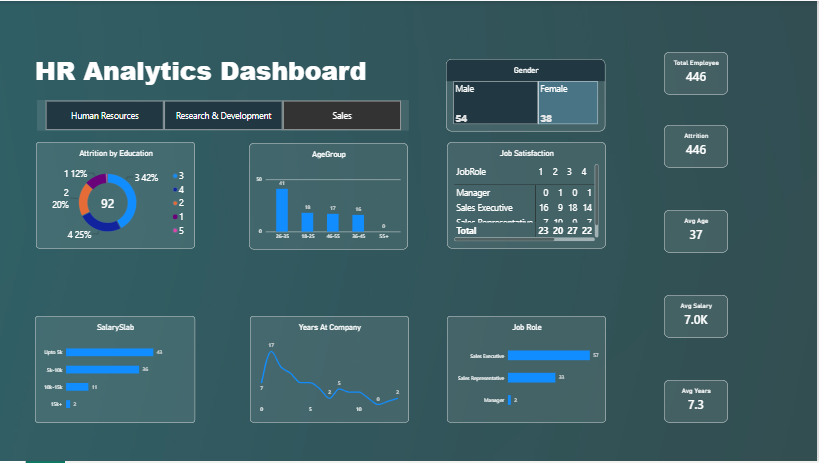

This screenshot's page, from the dashboard's own definition file:
{"tool":"powerbi","page":{"name":"Page 1","canvas":[1920,1080],"ordinal":0},"visuals":[{"type":"card","title":"Total Employee","fields":{"Values":["HR_Analytics.Total Employee"]},"box":[1560,120,150,100],"z":0},{"type":"card","title":"Attrition","fields":{"Values":["CountNonNull(HR_Analytics.AttritionCount)"]},"box":[1560,290,150,100],"z":1000},{"type":"card","title":"Avg Age","fields":{"Values":["Avg(HR_Analytics.Age)"]},"box":[1560,490,150,100],"z":2000},{"type":"card","title":"Avg Salary","fields":{"Values":["Avg(HR_Analytics.MonthlyIncome)"]},"box":[1560,690,150,100],"z":3000},{"type":"card","title":"Avg Years","fields":{"Values":["Avg(HR_Analytics.YearsAtCompany)"]},"box":[1560,890,150,100],"z":4000},{"type":"donutChart","title":"Attrition by Education","fields":{"Category":["HR_Analytics.Education"],"Y":["Sum(HR_Analytics.AttritionCount)"]},"box":[84,332,373.3,250],"z":5000},{"type":"columnChart","title":"AgeGroup","fields":{"Category":["HR_Analytics.AgeGroup"],"Y":["Sum(HR_Analytics.AttritionCount)"]},"box":[585.2,332.8,373,250],"z":6000},{"type":"pivotTable","title":"Job Satisfaction ","fields":{"Columns":["HR_Analytics.JobSatisfaction"],"Rows":["HR_Analytics.JobRole"],"Values":["Sum(HR_Analytics.AttritionCount)"]},"box":[1050,332,373,250],"z":7000},{"type":"barChart","title":"SalarySlab","fields":{"Category":["HR_Analytics.SalarySlab"],"Y":["Sum(HR_Analytics.AttritionCount)"]},"box":[82.2,739.6,375.7,251.2],"z":8000},{"type":"barChart","title":"Job Role","fields":{"Category":["HR_Analytics.JobRole"],"Y":["Sum(HR_Analytics.AttritionCount)"]},"box":[1050,740,373.3,250],"z":9000},{"type":"lineChart","title":"Years At Company","fields":{"Category":["HR_Analytics.YearsAtCompany"],"Y":["Sum(HR_Analytics.AttritionCount)"]},"box":[586,740,373.3,250],"z":10000},{"type":"treemap","title":"Gender","fields":{"Group":["HR_Analytics.Gender"],"Values":["Sum(HR_Analytics.AttritionCount)"]},"box":[1047.5,135,374,170],"z":11000},{"type":"textbox","box":[83.3,120,803.3,86.7],"z":13000},{"type":"slicer","fields":{"Values":["HR_Analytics.Department"]},"box":[86.7,233.3,873.3,71.7],"z":13001}]}

Visuals, with their boxes in screenshot pixels (x1, y1, x2, y2), scaled from the page's 1920x1080 canvas onto the 819x463 screenshot:
"Total Employee" card: locate(665, 51, 729, 94)
"Attrition" card: locate(665, 124, 729, 167)
"Avg Age" card: locate(665, 210, 729, 253)
"Avg Salary" card: locate(665, 296, 729, 339)
"Avg Years" card: locate(665, 382, 729, 424)
"Attrition by Education" donutChart: locate(36, 142, 195, 250)
"AgeGroup" columnChart: locate(250, 143, 409, 250)
"Job Satisfaction " pivotTable: locate(448, 142, 607, 250)
"SalarySlab" barChart: locate(35, 317, 195, 425)
"Job Role" barChart: locate(448, 317, 607, 424)
"Years At Company" lineChart: locate(250, 317, 409, 424)
"Gender" treemap: locate(447, 58, 606, 131)
textbox: locate(36, 51, 378, 89)
slicer - HR_Analytics.Department: locate(37, 100, 410, 131)
